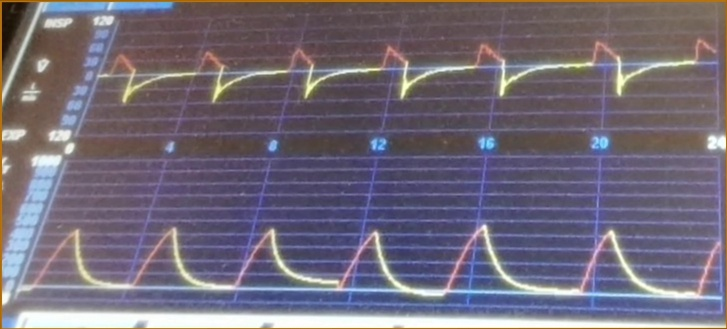Accumulation Flow: (113, 30, 715, 131)
Volume: (43, 218, 719, 310)
